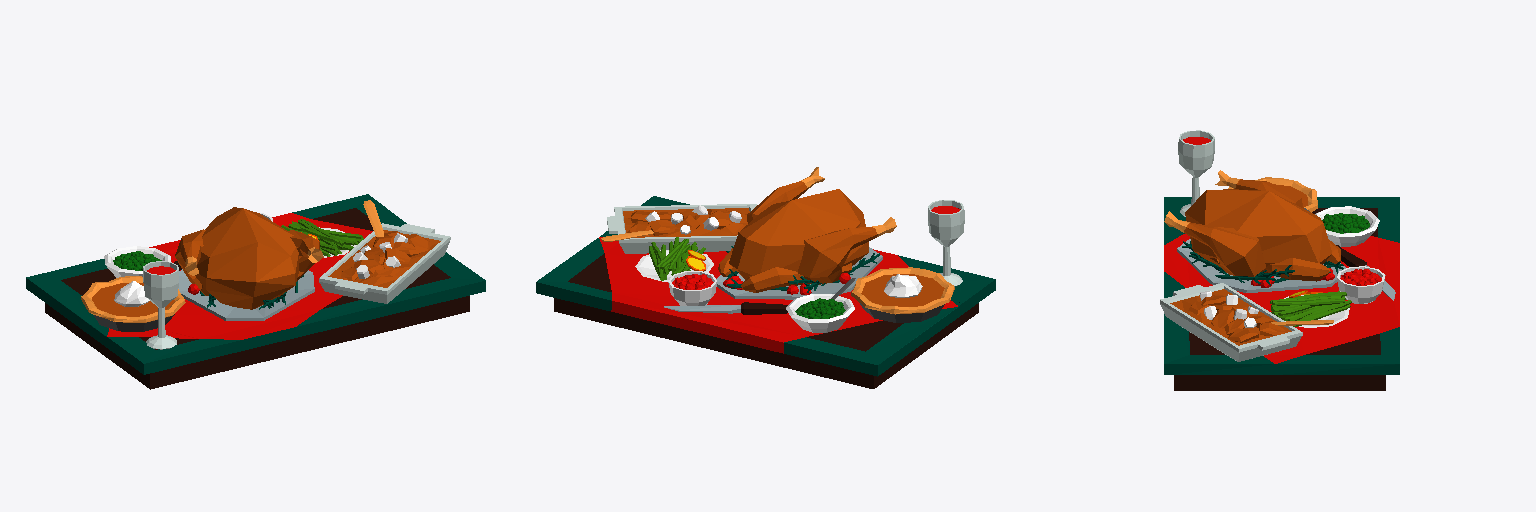
The model's file is Turkey.obj.
3 renders of one model, left to right at view 1: azimuth 30°, elevation 25°; view 2: azimuth 150°, elevation 25°; view 3: azimuth 270°, elevation 25°, orthographic.
Visible parts, largest first — view 1: group[number redacted], group[number redacted], group[number redacted], group[number redacted], group[number redacted], group[number redacted], group[number redacted], group[number redacted]; view 2: group[number redacted], group[number redacted], group[number redacted], group[number redacted], group[number redacted], group[number redacted], group[number redacted], group[number redacted], group[number redacted], group[number redacted]; view 3: group[number redacted], group[number redacted], group[number redacted], group[number redacted], group[number redacted], group[number redacted], group[number redacted], group[number redacted], group[number redacted].
Boxes of the visible parts, x1,y1,x2,y2 form: group[number redacted]: [26, 194, 485, 374]; group[number redacted]: [175, 207, 323, 320]; group[number redacted]: [319, 200, 450, 303]; group[number redacted]: [45, 296, 469, 389]; group[number redacted]: [81, 276, 185, 331]; group[number redacted]: [143, 261, 178, 349]; group[number redacted]: [104, 246, 170, 277]; group[number redacted]: [281, 219, 363, 257]; group[number redacted]: [536, 196, 995, 376]; group[number redacted]: [716, 167, 896, 299]; group[number redacted]: [601, 204, 756, 253]; group[number redacted]: [554, 298, 978, 388]; group[number redacted]: [851, 267, 954, 322]; group[number redacted]: [635, 237, 713, 281]; group[number redacted]: [786, 294, 854, 332]; group[number redacted]: [928, 200, 964, 286]; group[number redacted]: [668, 271, 716, 305]; group[number redacted]: [664, 302, 787, 314]; group[number redacted]: [1164, 197, 1399, 374]; group[number redacted]: [1164, 170, 1345, 292]; group[number redacted]: [1160, 283, 1333, 361]; group[number redacted]: [1174, 375, 1385, 390]; group[number redacted]: [1270, 290, 1351, 327]; group[number redacted]: [1315, 206, 1379, 246]; group[number redacted]: [1178, 130, 1214, 216]; group[number redacted]: [1337, 266, 1385, 303]; group[number redacted]: [1228, 177, 1317, 212].
Bounding box in the file's own units: 2.61 × 0.8042 × 1.56.